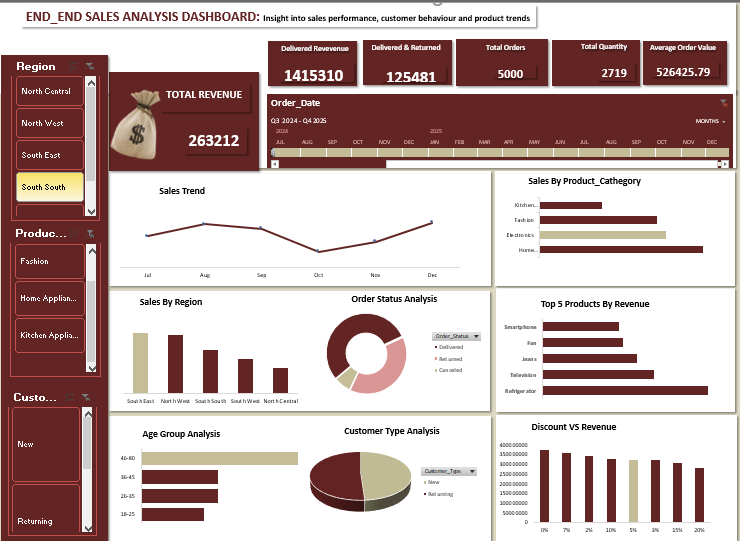

The page's visual inventory and layout, read from the dashboard file:
{"tool":"powerbi","page":{"name":"Page 3","canvas":[1280,720],"ordinal":2},"visuals":[{"type":"card","fields":{"Values":["fixed_sales_dataset_FINAL.Total revenue"]},"box":[564.3,0,169.3,125.2],"z":0},{"type":"donutChart","title":"Order status analysis","fields":{"Category":["fixed_sales_dataset_FINAL.Order_Status"],"Y":["CountNonNull(fixed_sales_dataset_FINAL.Order_ID)"]},"box":[151.4,516.2,367.6,204.1],"z":1000},{"type":"funnel","title":"Top 5 Products by Revenue","fields":{"Category":["fixed_sales_dataset_FINAL.Product_Name"],"Y":["Sum(fixed_sales_dataset_FINAL.Revenue)"]},"box":[151.4,281.1,367.6,214.9],"z":2000},{"type":"areaChart","title":"Discount VS Revenue","fields":{"Category":["fixed_sales_dataset_FINAL.Discount"],"Y":["Sum(fixed_sales_dataset_FINAL.Revenue)"]},"box":[144.6,105.4,374.3,175.7],"z":3000},{"type":"clusteredBarChart","title":"Sales By Product Category","fields":{"Category":["fixed_sales_dataset_FINAL.Product_Category"],"Y":["Sum(fixed_sales_dataset_FINAL.Revenue)"]},"box":[908.1,516.2,371.6,204.1],"z":4000},{"type":"lineChart","title":"Sales Trend Analysis","fields":{"Category":["fixed_sales_dataset_FINAL.Order_Date.Variation.Date Hierarchy.Month"],"Y":["Sum(fixed_sales_dataset_FINAL.Revenue)"]},"box":[539.2,281.1,362.2,208.1],"z":5000},{"type":"columnChart","title":"Age Group Analysis","fields":{"Category":["fixed_sales_dataset_FINAL.Age_group"],"Y":["Sum(fixed_sales_dataset_FINAL.Revenue)"]},"box":[908.1,281.1,371.6,206.8],"z":6000},{"type":"clusteredBarChart","title":"Sales By Region","fields":{"Category":["fixed_sales_dataset_FINAL.Region"],"Y":["Sum(fixed_sales_dataset_FINAL.Revenue)"]},"box":[533.8,516.2,367.6,204.1],"z":7000},{"type":"card","fields":{"Values":["fixed_sales_dataset_FINAL.Total orders"]},"box":[733.6,136.3,159.7,130.8],"z":8000},{"type":"card","fields":{"Values":["fixed_sales_dataset_FINAL.Total quantity"]},"box":[1117.6,0,162.4,125.2],"z":9000},{"type":"card","fields":{"Values":["fixed_sales_dataset_FINAL.Average order value"]},"box":[539.5,134.9,166.5,130.8],"z":10000},{"type":"slicer","fields":{"Values":["fixed_sales_dataset_FINAL.Region"]},"box":[0,304.2,133.5,191.3],"z":11000},{"type":"slicer","fields":{"Values":["fixed_sales_dataset_FINAL.Order_Date"]},"box":[927,148.6,352.7,118.9],"z":12000},{"type":"slicer","fields":{"Values":["fixed_sales_dataset_FINAL.Customer_Type"]},"box":[0,516.1,133.5,203.7],"z":13000},{"type":"slicer","fields":{"Values":["fixed_sales_dataset_FINAL.Product_Category"]},"box":[0,106,133.5,185.8],"z":14000},{"type":"textbox","box":[0,0,560.2,72.9],"z":15000},{"type":"card","fields":{"Values":["fixed_sales_dataset_FINAL.Total Revenue (Delivered)"]},"box":[750.1,0,167.9,121.1],"z":16000},{"type":"card","fields":{"Values":["fixed_sales_dataset_FINAL.Total Revenue (Delivered + Returned)"]},"box":[927.7,0,176.2,125.2],"z":17000}]}

Visuals, with their boxes on the page's 1280x720 design canvas (x1, y1, x2, y2). These are canvas units, not pixel positions in the 740x541 screenshot, which may show the page scaled, cropped or inside an application window:
card - fixed_sales_dataset_FINAL.Total revenue: {"x1": 564, "y1": 0, "x2": 734, "y2": 125}
"Order status analysis" donutChart: {"x1": 151, "y1": 516, "x2": 519, "y2": 720}
"Top 5 Products by Revenue" funnel: {"x1": 151, "y1": 281, "x2": 519, "y2": 496}
"Discount VS Revenue" areaChart: {"x1": 145, "y1": 105, "x2": 519, "y2": 281}
"Sales By Product Category" clusteredBarChart: {"x1": 908, "y1": 516, "x2": 1280, "y2": 720}
"Sales Trend Analysis" lineChart: {"x1": 539, "y1": 281, "x2": 901, "y2": 489}
"Age Group Analysis" columnChart: {"x1": 908, "y1": 281, "x2": 1280, "y2": 488}
"Sales By Region" clusteredBarChart: {"x1": 534, "y1": 516, "x2": 901, "y2": 720}
card - fixed_sales_dataset_FINAL.Total orders: {"x1": 734, "y1": 136, "x2": 893, "y2": 267}
card - fixed_sales_dataset_FINAL.Total quantity: {"x1": 1118, "y1": 0, "x2": 1280, "y2": 125}
card - fixed_sales_dataset_FINAL.Average order value: {"x1": 540, "y1": 135, "x2": 706, "y2": 266}
slicer - fixed_sales_dataset_FINAL.Region: {"x1": 0, "y1": 304, "x2": 134, "y2": 496}
slicer - fixed_sales_dataset_FINAL.Order_Date: {"x1": 927, "y1": 149, "x2": 1280, "y2": 268}
slicer - fixed_sales_dataset_FINAL.Customer_Type: {"x1": 0, "y1": 516, "x2": 134, "y2": 720}
slicer - fixed_sales_dataset_FINAL.Product_Category: {"x1": 0, "y1": 106, "x2": 134, "y2": 292}
textbox: {"x1": 0, "y1": 0, "x2": 560, "y2": 73}
card - fixed_sales_dataset_FINAL.Total Revenue (Delivered): {"x1": 750, "y1": 0, "x2": 918, "y2": 121}
card - fixed_sales_dataset_FINAL.Total Revenue (Delivered + Returned): {"x1": 928, "y1": 0, "x2": 1104, "y2": 125}
